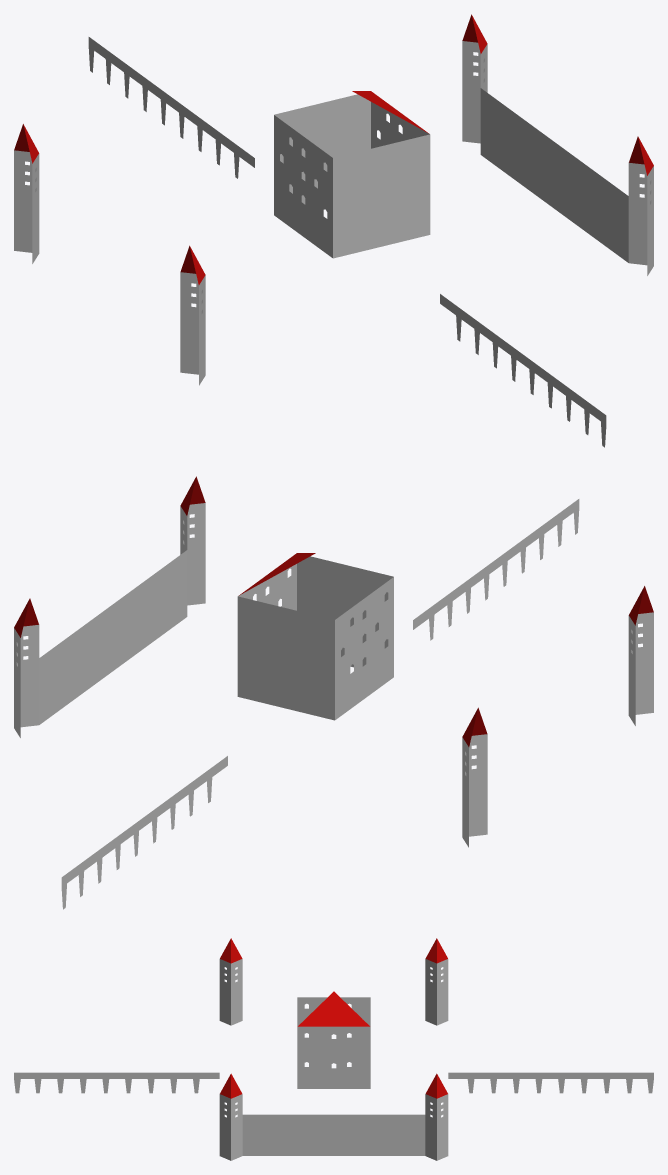
Rendered from замок.fbx.
The picture shows the model from 3 angles, top to bottom: view 1: azimuth 30°, elevation 25°; view 2: azimuth 150°, elevation 25°; view 3: azimuth 270°, elevation 25°; orthographic projection. The views are drawn at different scales.
Parts seen in each view (by area): view 1: Плоскость.001; view 2: Плоскость.001; view 3: Плоскость.001.
Part boxes in pixels (bbox=[...]): Плоскость.001: bbox=[14, 14, 653, 447]; Плоскость.001: bbox=[14, 476, 653, 909]; Плоскость.001: bbox=[14, 938, 653, 1160].
Size of the model in its own units: 14.5 by 5 by 28.
